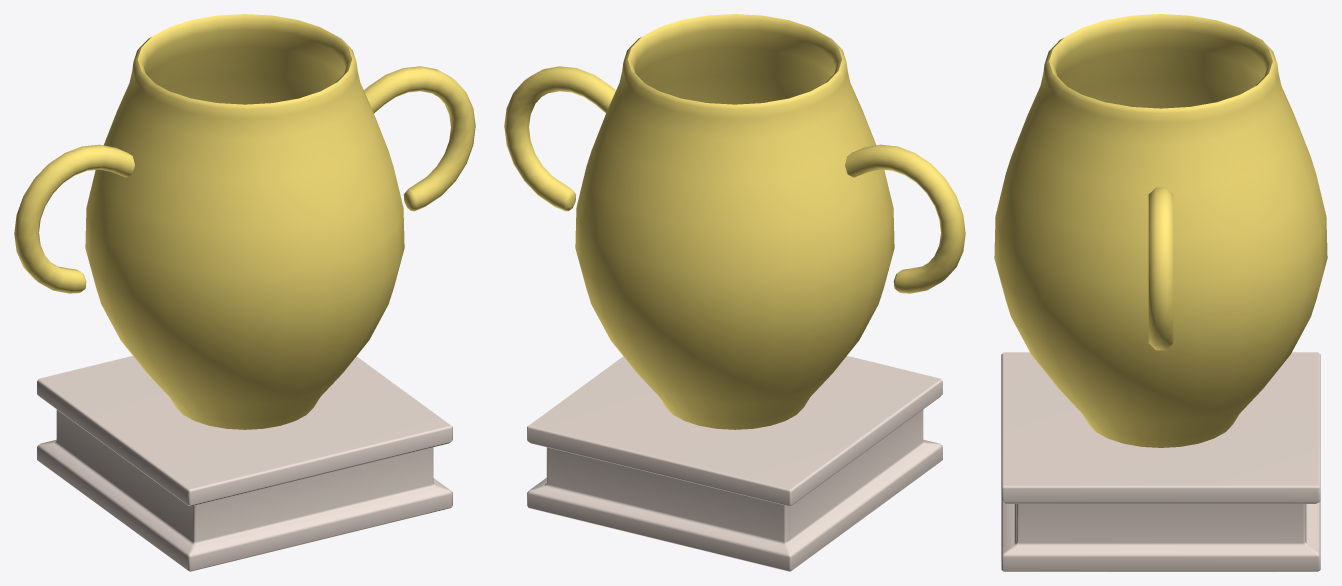
File: Vase_1.glb
3 renders of one model, left to right at view 1: azimuth 30°, elevation 25°; view 2: azimuth 150°, elevation 25°; view 3: azimuth 270°, elevation 25°, orthographic. The views are drawn at different scales.
Visible parts, largest first — view 1: Vase_1; view 2: Vase_1; view 3: Vase_1.
Boxes of the visible parts, x1=… form: Vase_1: x1=14, y1=14, x2=475, y2=571; Vase_1: x1=504, y1=14, x2=965, y2=571; Vase_1: x1=994, y1=14, x2=1327, y2=571.
Size of the model in its own units: 0.2865 by 0.2552 by 0.1735.
Materials: 1 (1 with a texture image).
